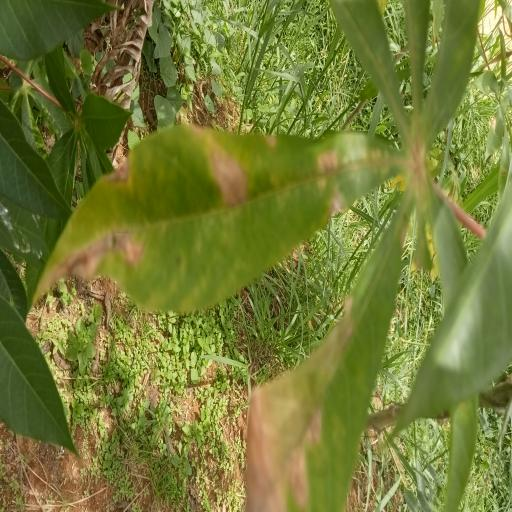Cassava_Brown_Leaf_Spot: (31, 5, 512, 512)
